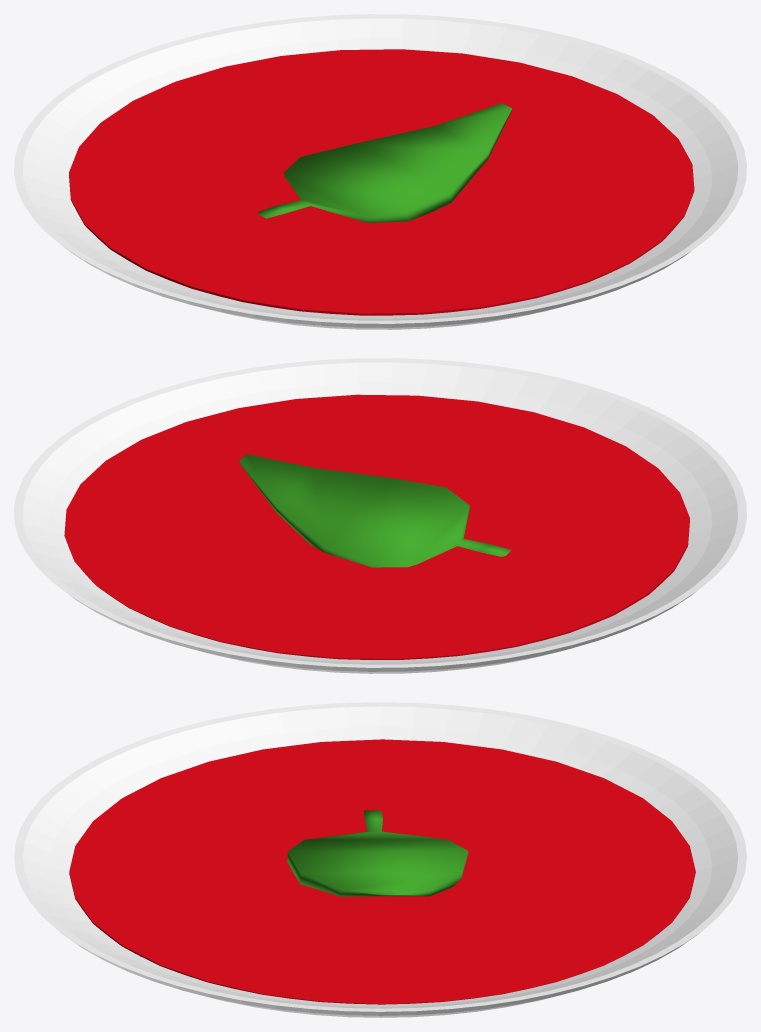
File: tomato soup.fbx
3 views of the same model, one above another, from view 1: azimuth 30°, elevation 25°; view 2: azimuth 150°, elevation 25°; view 3: azimuth 270°, elevation 25° (orthographic).
Visible parts, largest first — view 1: Cylinder.001, Cylinder, Cube; view 2: Cylinder.001, Cylinder, Cube; view 3: Cylinder.001, Cylinder, Cube.
Part boxes in pixels (x1,y1,x2,y2): Cylinder.001: (69, 49, 694, 315); Cylinder: (14, 14, 746, 329); Cube: (258, 103, 512, 222); Cylinder.001: (64, 394, 689, 659); Cylinder: (14, 358, 746, 673); Cube: (239, 454, 511, 567); Cylinder.001: (69, 739, 695, 1004); Cylinder: (14, 702, 746, 1017); Cube: (287, 810, 468, 896).
Bounding box in the file's own units: 391 × 54.01 × 391.
